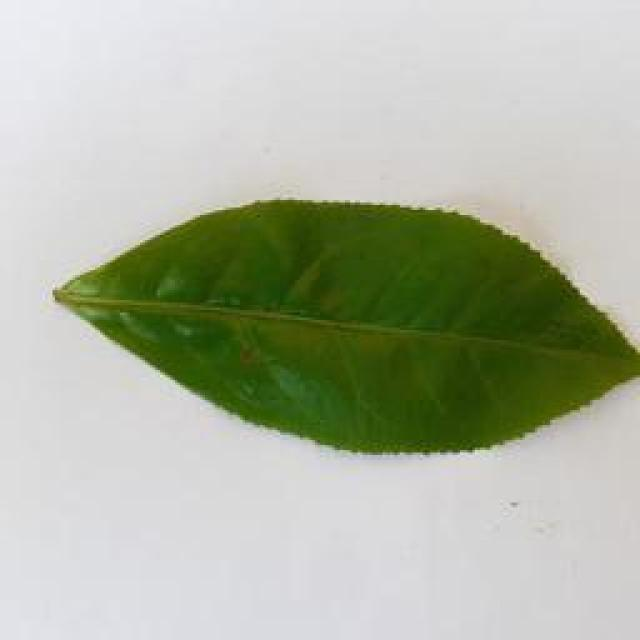Healthy: (51, 194, 640, 447)
